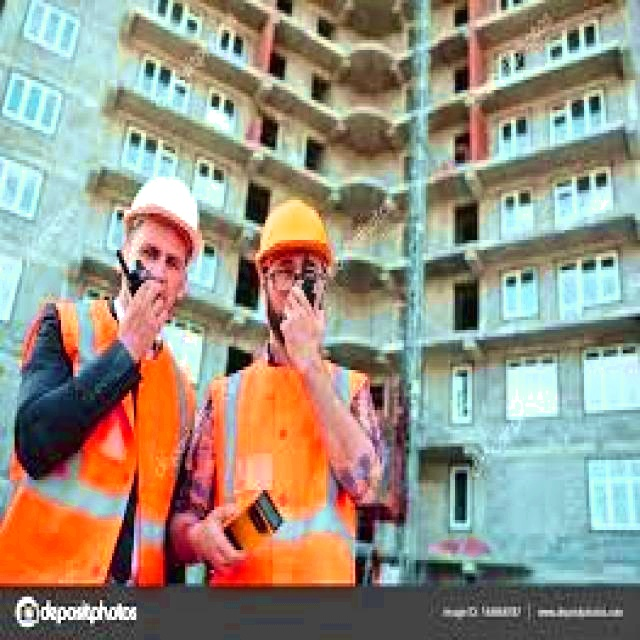Con_Chaleco: (0, 300, 195, 585), (212, 353, 368, 583)
